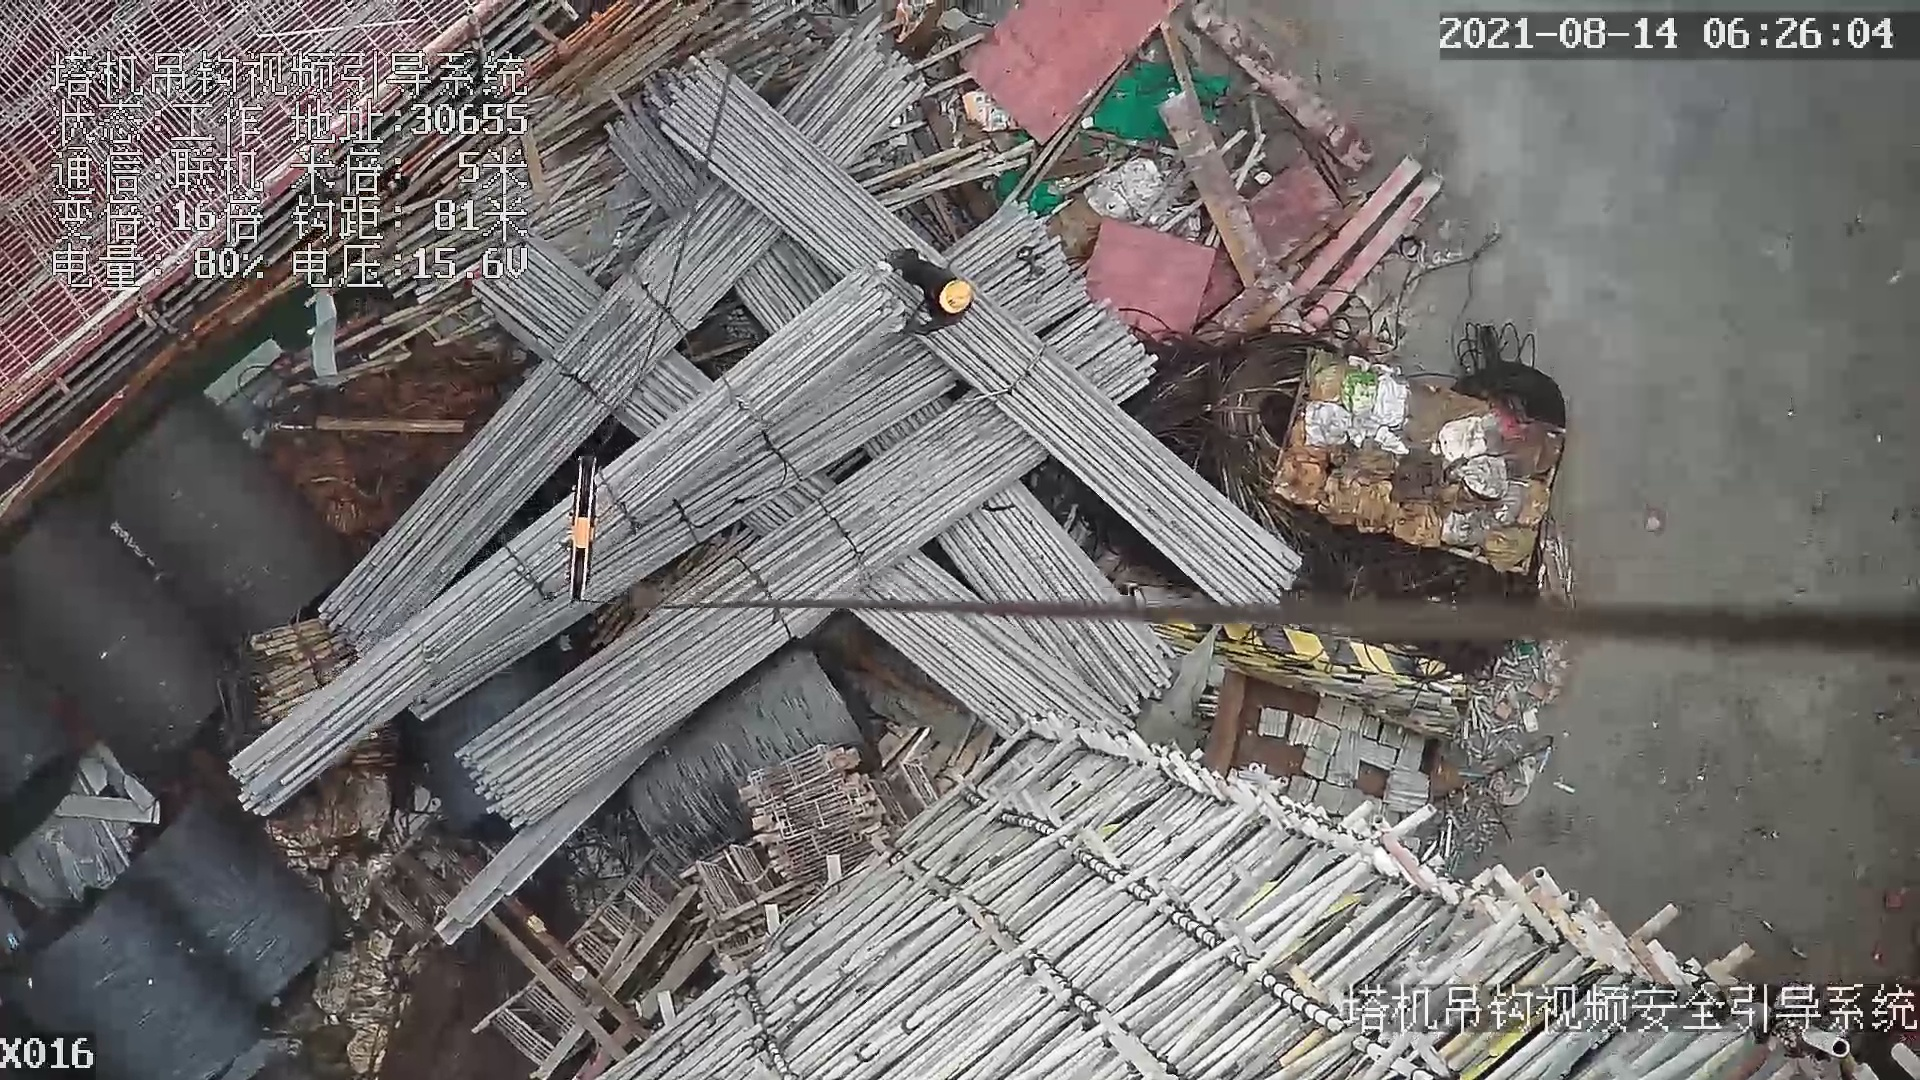helmet: (936, 279, 974, 320)
hook: (568, 447, 597, 608)
person: (883, 240, 972, 333)
